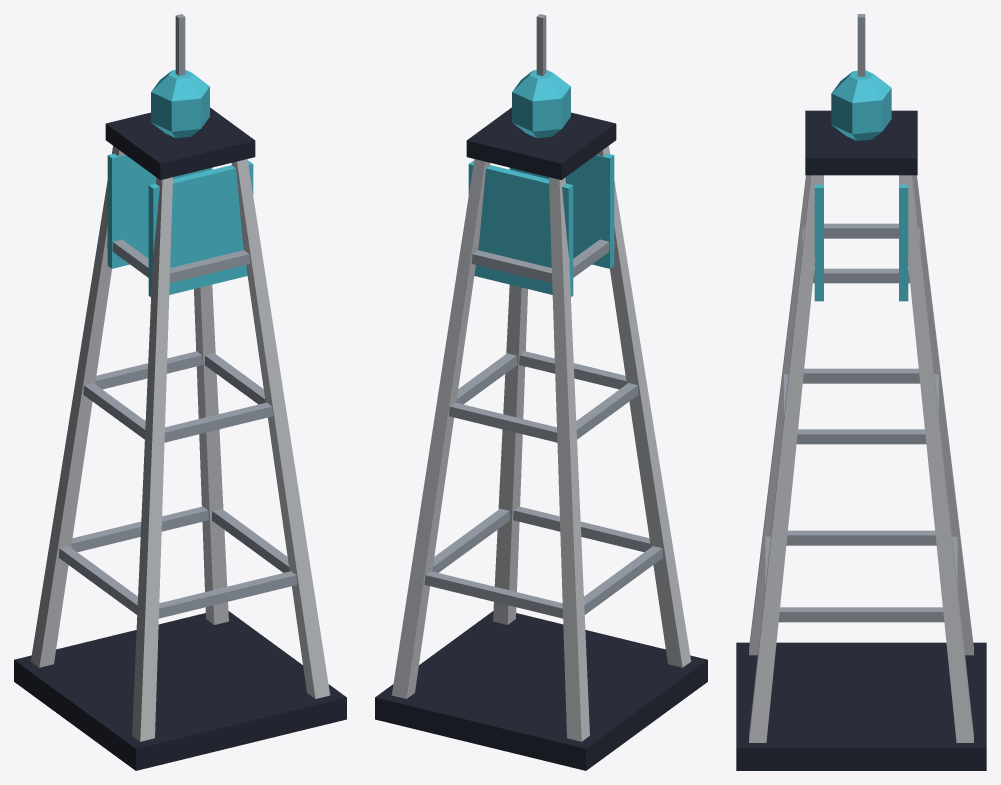
File: towerA.glb
3 renders of one model, left to right at view 1: azimuth 30°, elevation 25°; view 2: azimuth 150°, elevation 25°; view 3: azimuth 270°, elevation 25°, orthographic. The views are drawn at different scales.
Visible parts, largest first — view 1: moon-towerA; view 2: moon-towerA; view 3: moon-towerA.
Part boxes in pixels (x1,y1,x2,y2): moon-towerA: [14, 14, 346, 770]; moon-towerA: [375, 14, 707, 770]; moon-towerA: [736, 14, 986, 770].
Bounding box in the file's own units: 0.4 × 1.24 × 0.4.
